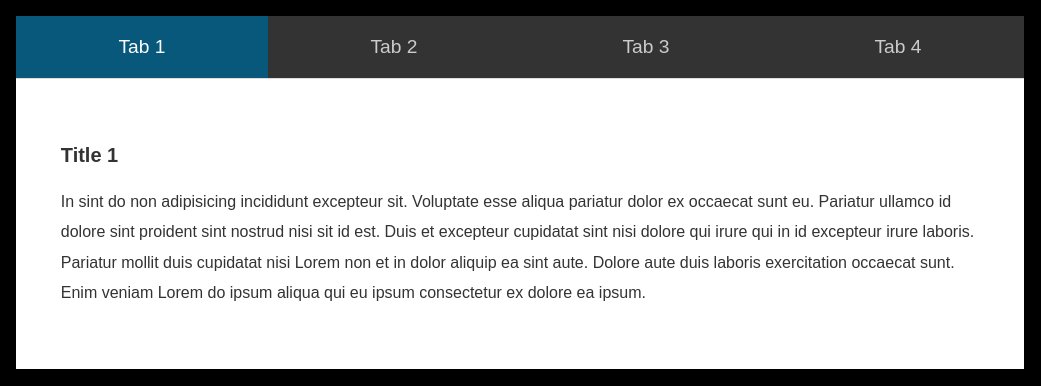
Scenario: renders fourth tab and changes content on click
Click on the fourth tab
Click the button "Tab 4" at x=898, y=47, box [772,16,1024,78]
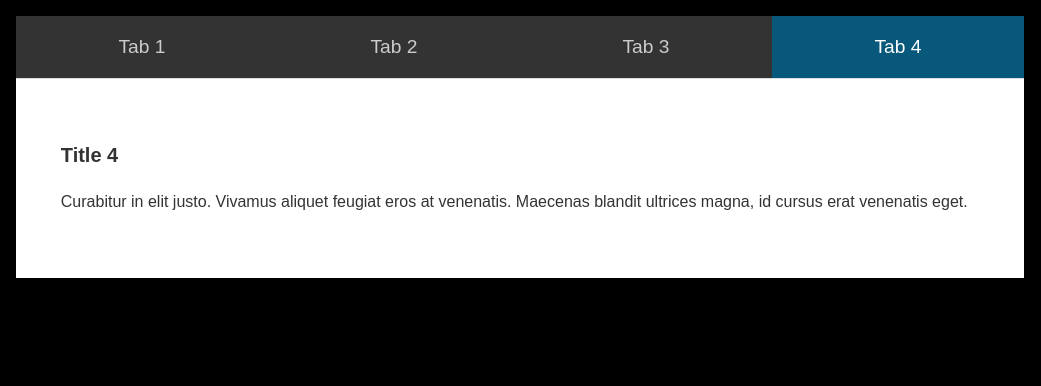
Now the text "Curabitur in elit justo. Vivamus aliquet feugiat eros at venenatis" is shown, box [61,193,968,210]
